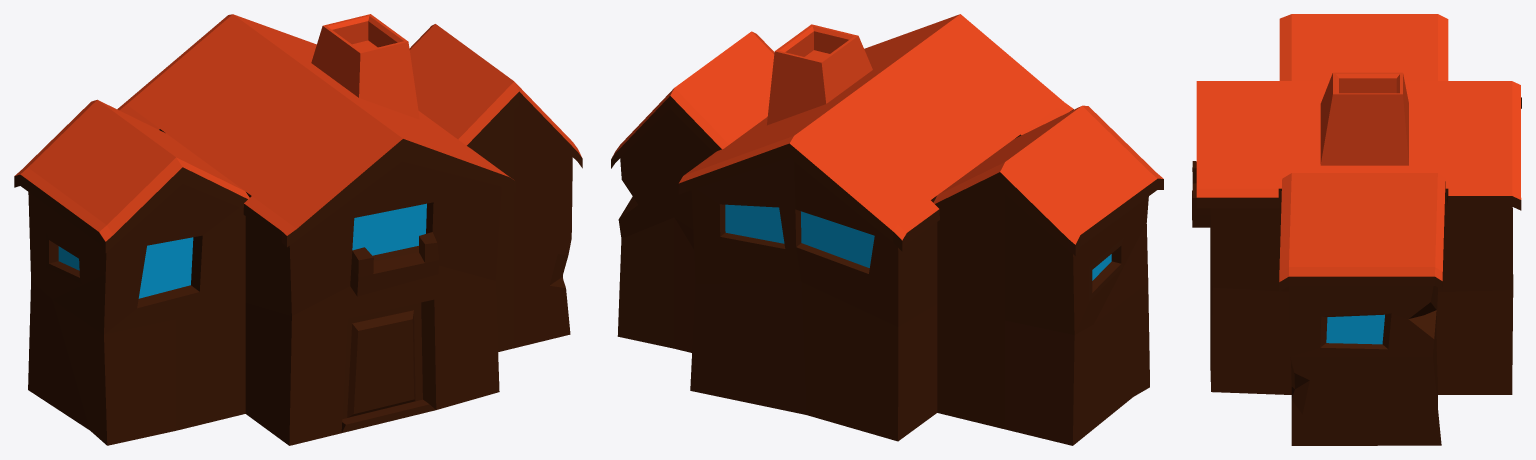
Rendered from House_V5.fbx.
The picture shows the model from 3 angles, left to right: view 1: azimuth 30°, elevation 25°; view 2: azimuth 150°, elevation 25°; view 3: azimuth 270°, elevation 25°; orthographic projection. The views are drawn at different scales.
Parts seen in each view (by area): view 1: Cube; view 2: Cube; view 3: Cube.
Part boxes in pixels (box(x1,y1,x2,y2)): Cube: box(14, 14, 582, 445); Cube: box(611, 14, 1163, 445); Cube: box(1192, 14, 1521, 445).
Size of the model in its own units: 5.55 by 3.45 by 3.58.
